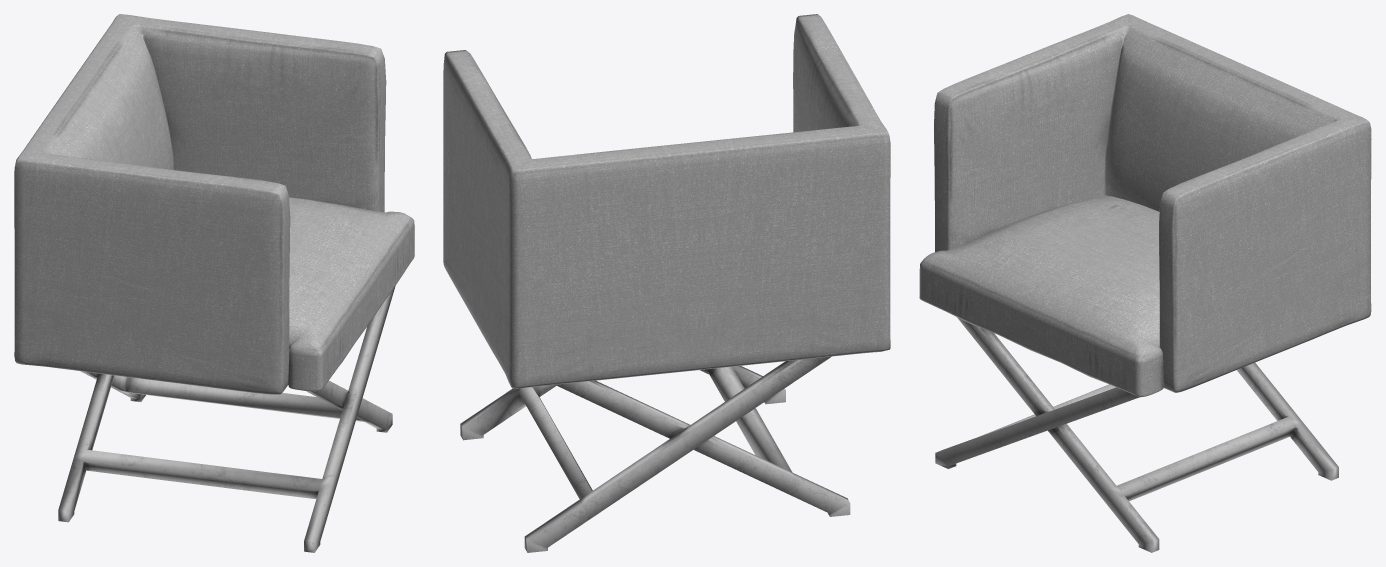
File: 1_poltrona.glb
The picture shows the model from 3 angles, left to right: view 1: azimuth 30°, elevation 25°; view 2: azimuth 150°, elevation 25°; view 3: azimuth 270°, elevation 25°; orthographic projection. The views are drawn at different scales.
Visible parts, largest first — view 1: defaultMaterial.006; view 2: defaultMaterial.006; view 3: defaultMaterial.006.
Boxes of the visible parts, x1,y1,x2,y2 form: defaultMaterial.006: [14, 14, 414, 552]; defaultMaterial.006: [443, 14, 890, 552]; defaultMaterial.006: [919, 14, 1371, 552].
Bounding box in the file's own units: 0.791 × 0.6887 × 0.7892.
Materials: 1 (1 with a texture image).
